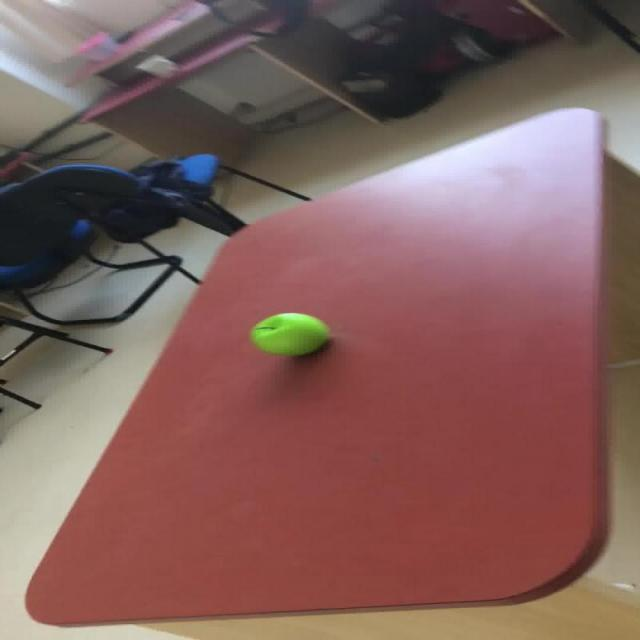Apple: (248, 312, 328, 356)
